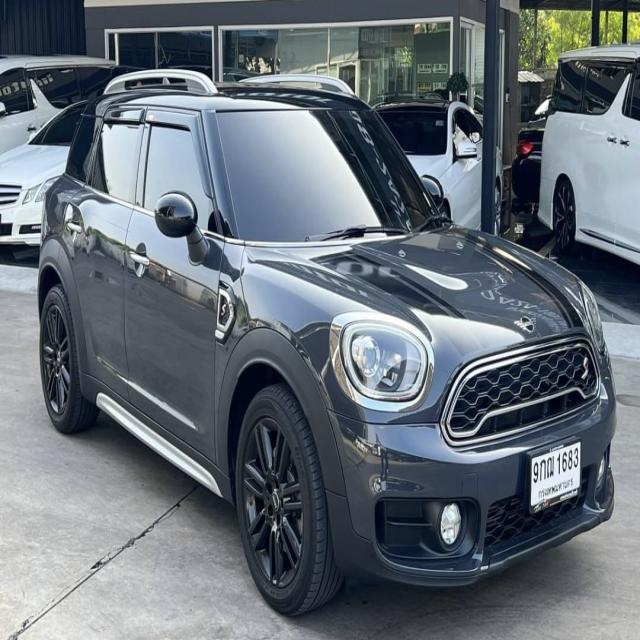license_plate: (522, 436, 583, 518)
